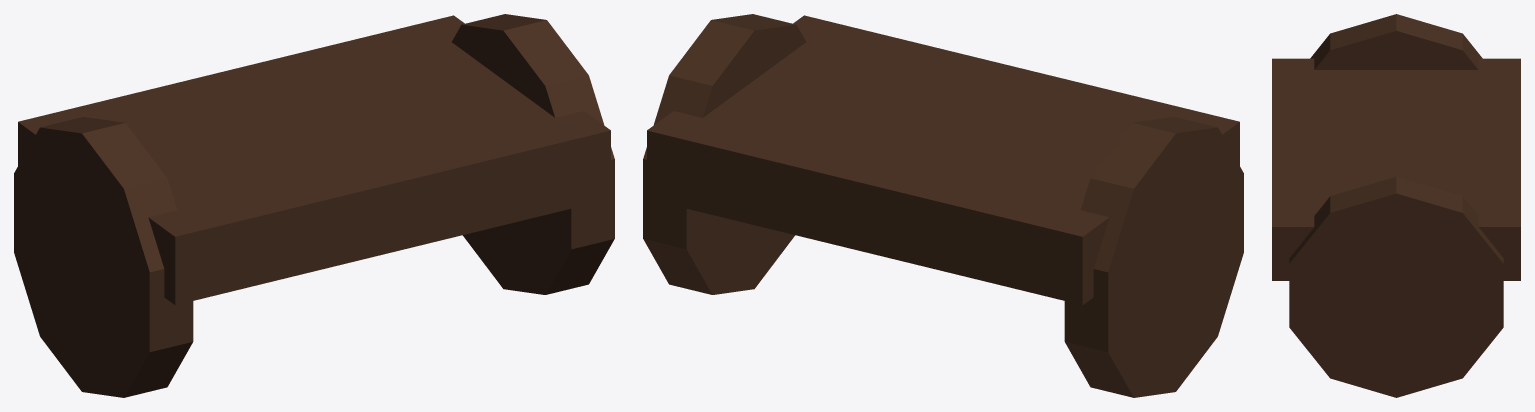
Rendered from broken-cart.obj.
3 views of the same model, side by side, from view 1: azimuth 30°, elevation 25°; view 2: azimuth 150°, elevation 25°; view 3: azimuth 270°, elevation 25° (orthographic). The views are drawn at different scales.
Parts seen in each view (by area): view 1: broken-cart_0, broken-cart_1, broken-cart_2; view 2: broken-cart_0, broken-cart_1, broken-cart_2; view 3: broken-cart_2, broken-cart_0, broken-cart_1.
Boxes of the visible parts, box(x1,y1,x2,y2) form: broken-cart_0: box(18, 15, 610, 305); broken-cart_1: box(14, 117, 193, 397); broken-cart_2: box(452, 14, 614, 294); broken-cart_0: box(647, 15, 1239, 305); broken-cart_1: box(1064, 117, 1243, 397); broken-cart_2: box(643, 14, 805, 294); broken-cart_2: box(1289, 176, 1503, 397); broken-cart_0: box(1272, 58, 1520, 280); broken-cart_1: box(1310, 14, 1482, 69).
Size of the model in its own units: 1.28 by 0.68 by 0.75.
